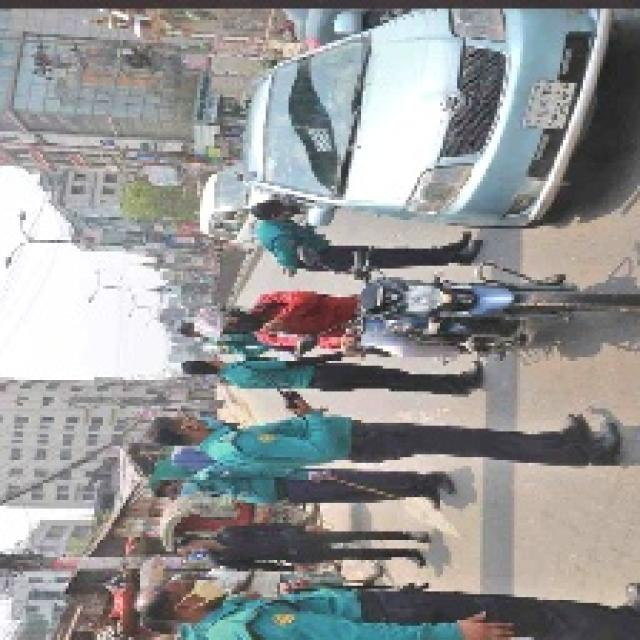bike: (309, 249, 628, 345)
car: (239, 9, 619, 208)
